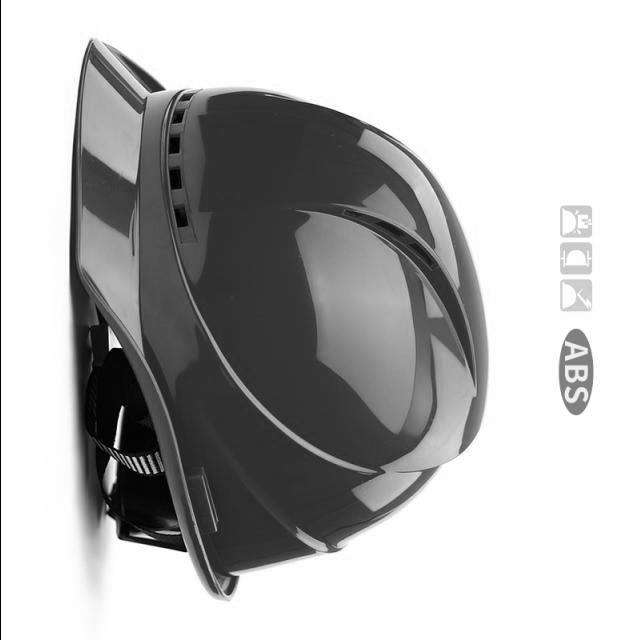construction helmet: (68, 40, 487, 602)
